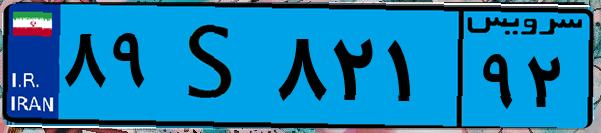1: (385, 28, 445, 110)
2: (330, 28, 385, 110), (525, 38, 570, 115)
8: (270, 28, 330, 110), (57, 26, 110, 100)
9: (475, 38, 525, 113), (110, 28, 158, 98)
S: (158, 12, 270, 120)
